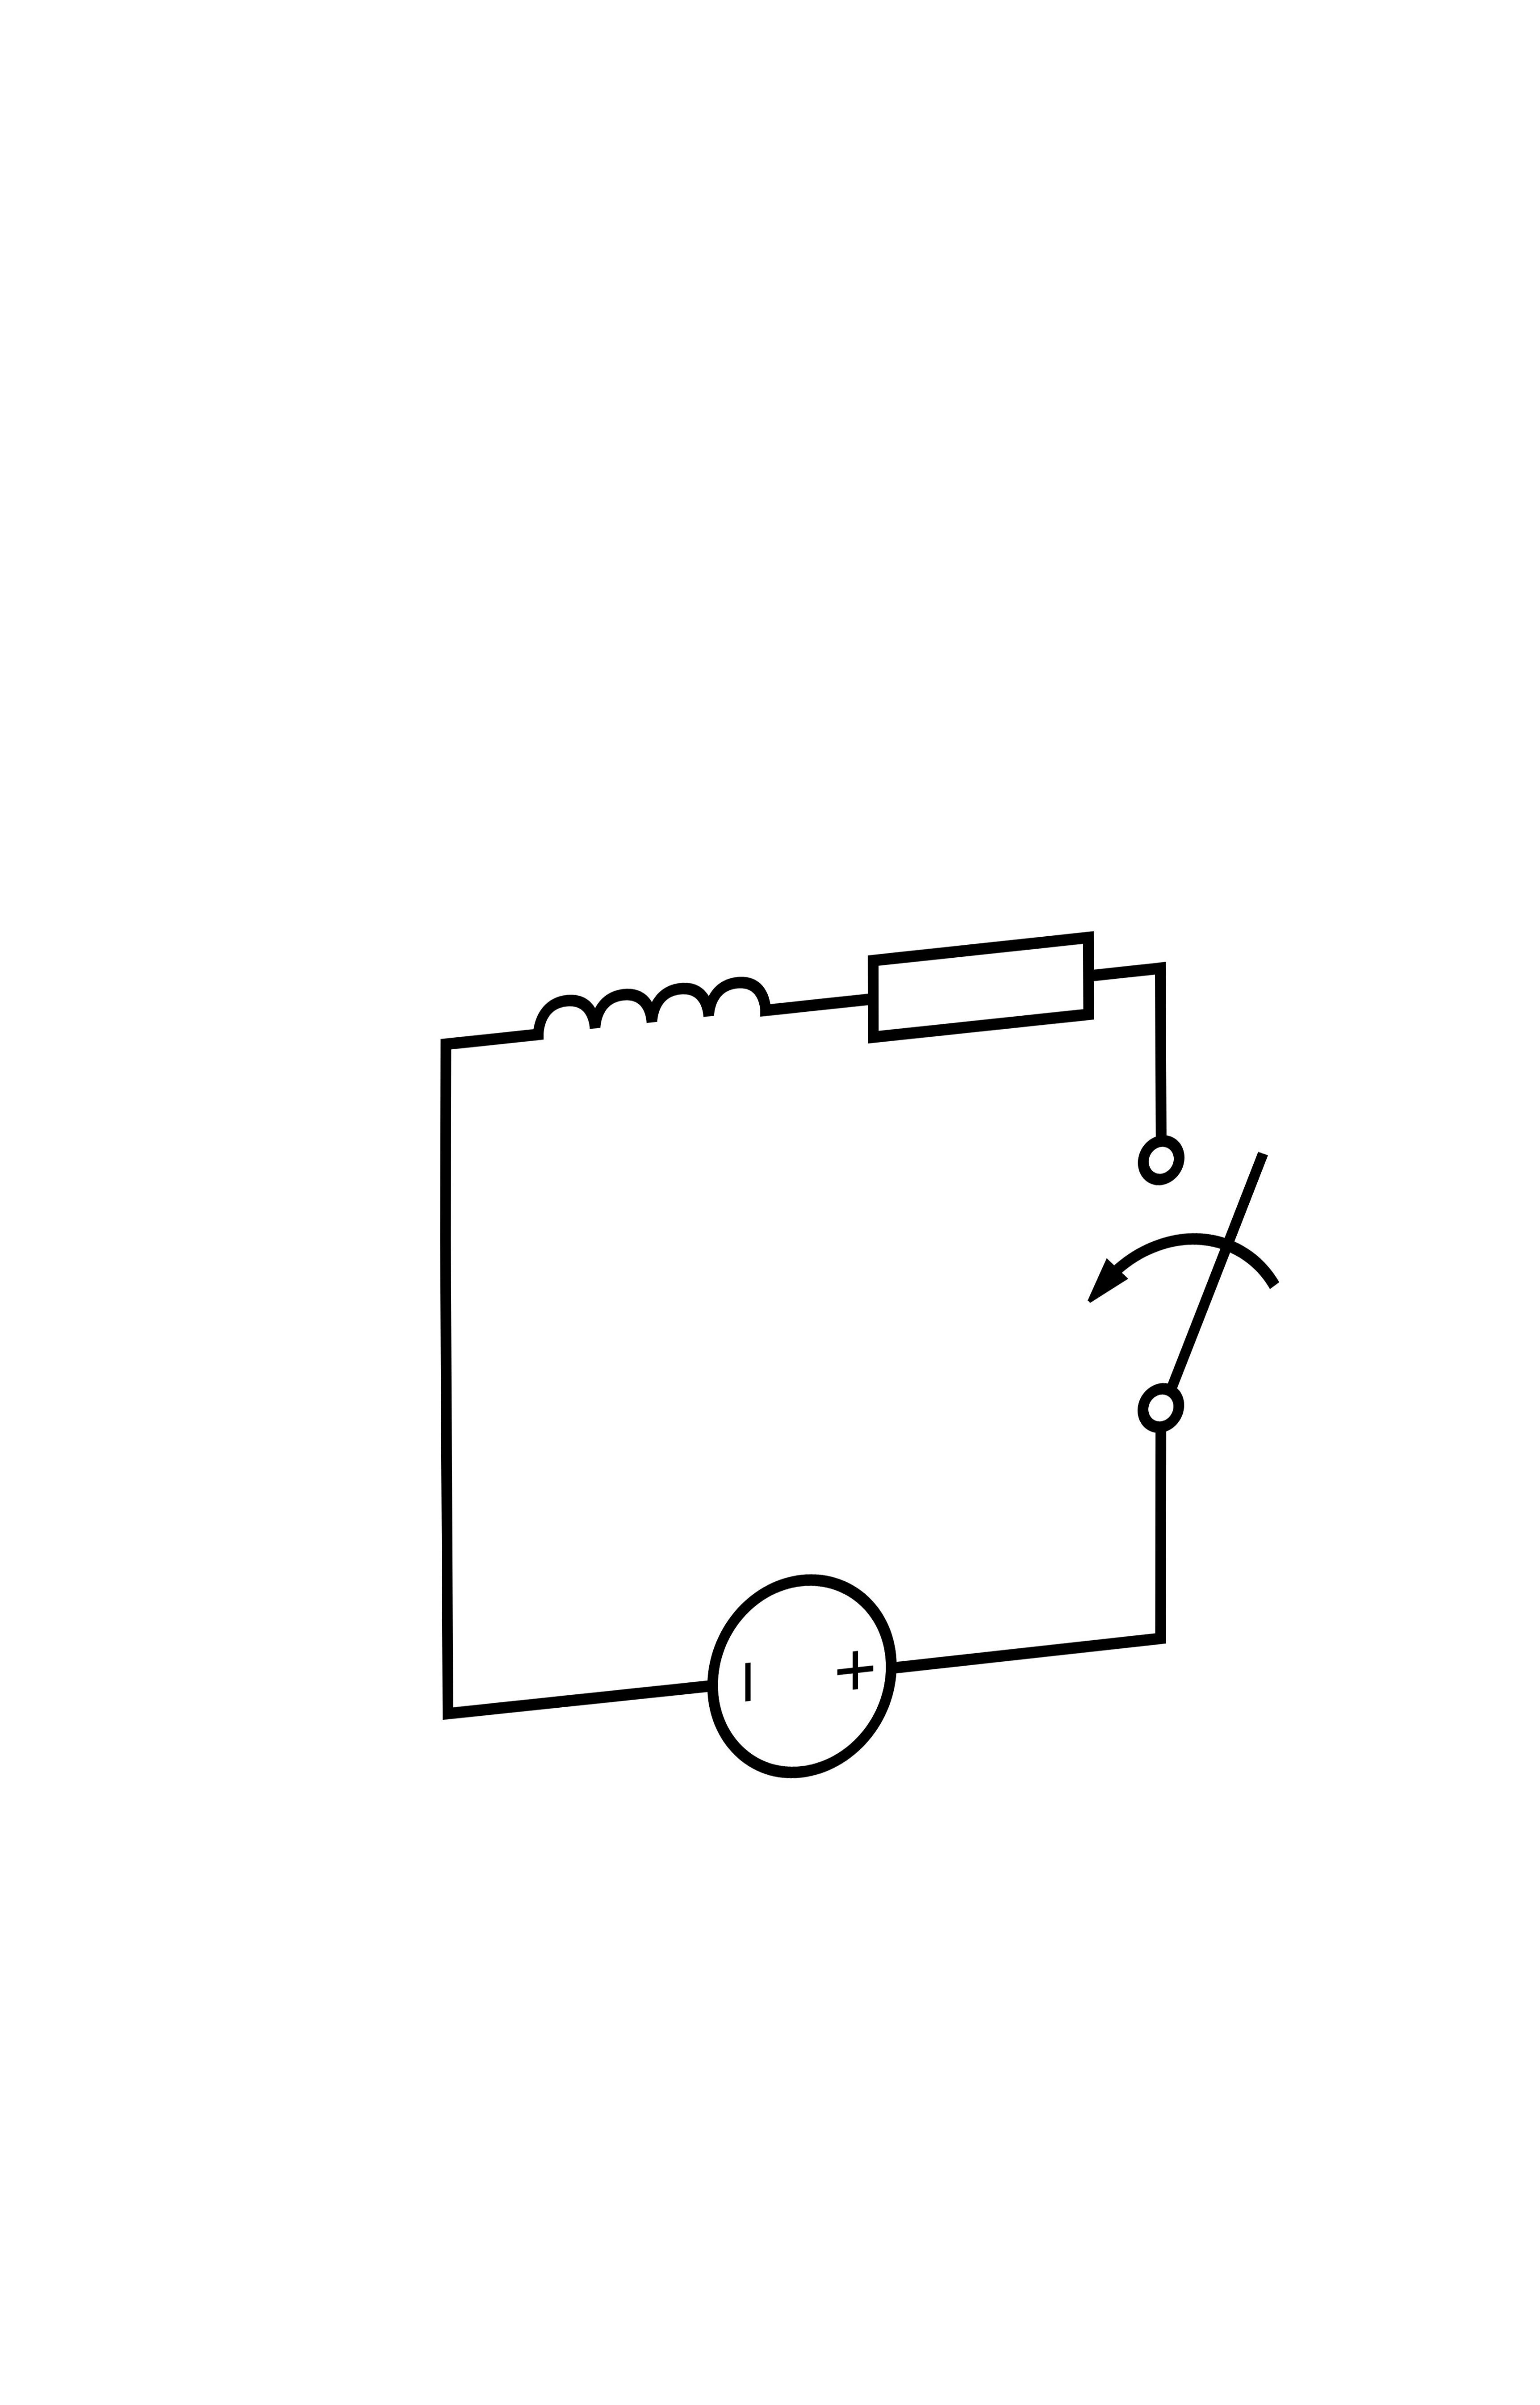Battery: (639, 1525, 951, 1844)
